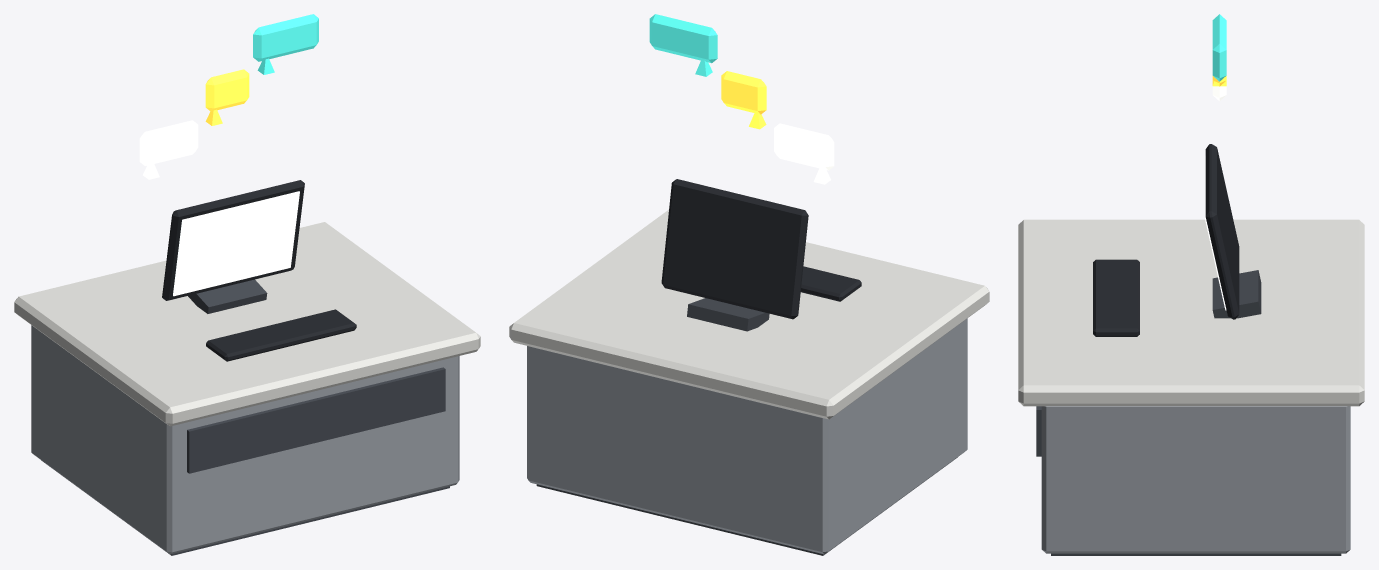
File: quickreply_3.glb
The picture shows the model from 3 angles, left to right: view 1: azimuth 30°, elevation 25°; view 2: azimuth 150°, elevation 25°; view 3: azimuth 270°, elevation 25°; orthographic projection. The views are drawn at different scales.
Visible parts, largest first — view 1: quickreply_3_mesh_Desk, quickreply_3_mesh; view 2: quickreply_3_mesh_Desk, quickreply_3_mesh; view 3: quickreply_3_mesh_Desk, quickreply_3_mesh.
Part boxes in pixels (<box>): quickreply_3_mesh_Desk: <box>14,222,480,555</box>; quickreply_3_mesh: <box>139,14,356,361</box>; quickreply_3_mesh_Desk: <box>509,209,989,555</box>; quickreply_3_mesh: <box>649,14,861,331</box>; quickreply_3_mesh_Desk: <box>1018,219,1364,555</box>; quickreply_3_mesh: <box>1093,14,1261,336</box>.
Size of the model in its own units: 0.86 by 1.13 by 0.74.
